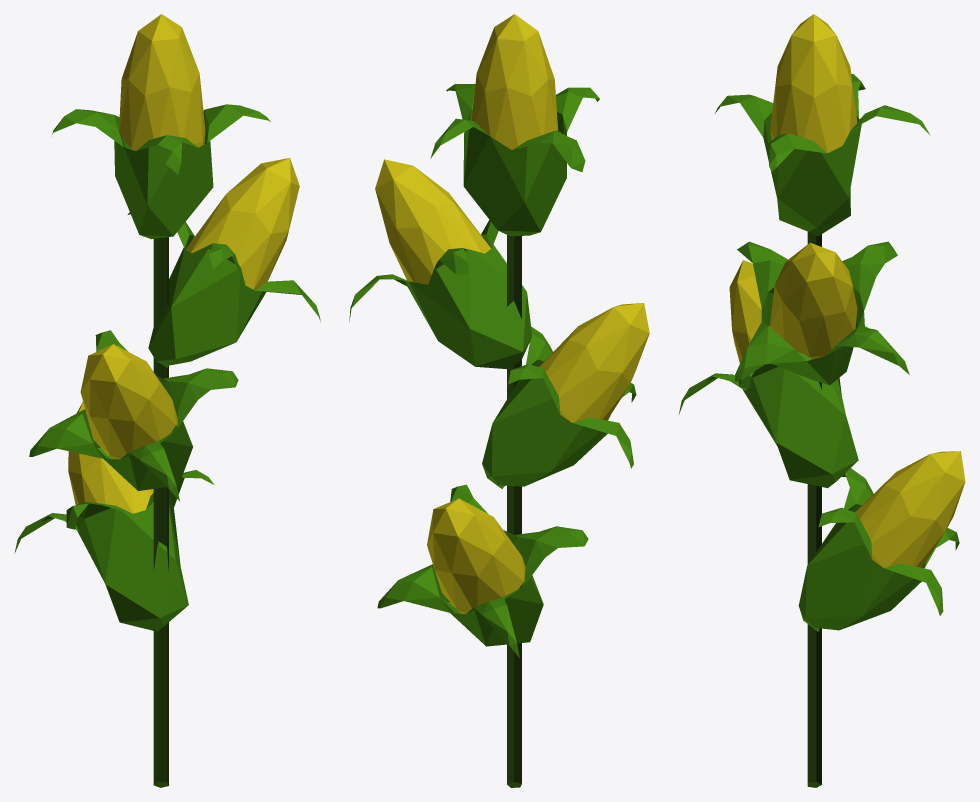
The model's file is corn.obj.
The picture shows the model from 3 angles, left to right: view 1: azimuth 30°, elevation 25°; view 2: azimuth 150°, elevation 25°; view 3: azimuth 270°, elevation 25°; orthographic projection.
Visible parts, largest first — view 1: Circle, Circle.001, Circle.003, Circle.002, Cylinder; view 2: Circle, Circle.001, Circle.003, Circle.002, Cylinder; view 3: Circle.002, Circle, Circle.001, Circle.003, Cylinder.
Boxes of the visible parts, x1=… form: Circle: x1=52, y1=14, x2=270, y2=239; Circle.001: x1=128, y1=158, x2=320, y2=367; Circle.003: x1=29, y1=330, x2=238, y2=501; Circle.002: x1=14, y1=402, x2=214, y2=631; Cylinder: x1=153, y1=237, x2=168, y2=787; Circle: x1=430, y1=14, x2=599, y2=236; Circle.001: x1=349, y1=159, x2=532, y2=368; Circle.003: x1=482, y1=303, x2=649, y2=488; Circle.002: x1=377, y1=484, x2=588, y2=657; Cylinder: x1=507, y1=235, x2=521, y2=787; Circle.002: x1=798, y1=451, x2=965, y2=631; Circle: x1=715, y1=14, x2=930, y2=236; Circle.001: x1=735, y1=241, x2=909, y2=385; Circle.003: x1=679, y1=260, x2=868, y2=488; Cylinder: x1=807, y1=226, x2=821, y2=787.
Bounding box in the file's own units: 0.8778 × 2.5 × 0.8427.
